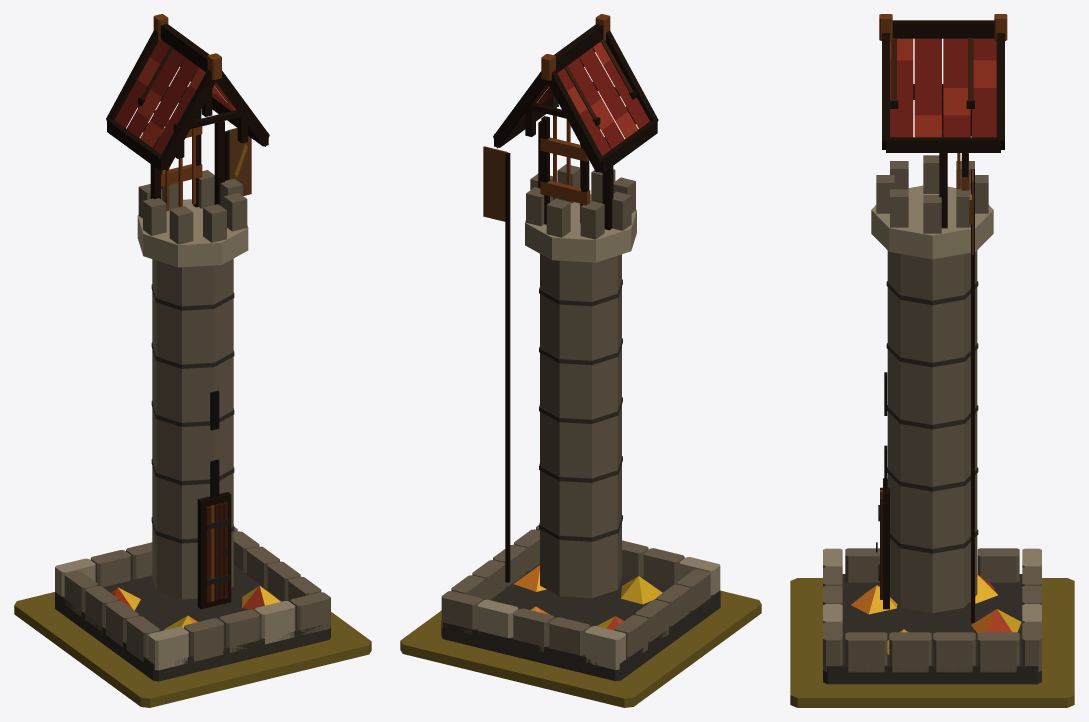
The model's file is archer_tower_t4.glb.
The picture shows the model from 3 angles, left to right: view 1: azimuth 30°, elevation 25°; view 2: azimuth 150°, elevation 25°; view 3: azimuth 270°, elevation 25°; orthographic projection. The views are drawn at different scales.
Visible parts, largest first — view 1: MMR | archer_tower | T04 Architecture.001, MMR | archer_tower | Tier 04 Ground.001, MMR | archer_tower | T04 Roof Supports.001, MMR | archer_tower | T04 Autumn Dressing.001, MMR | archer_tower | T04 Banner Flag 1.001; view 2: MMR | archer_tower | T04 Architecture.001, MMR | archer_tower | Tier 04 Ground.001, MMR | archer_tower | T04 Banner Flag 1.001, MMR | archer_tower | T04 Autumn Dressing.001, MMR | archer_tower | T04 Roof Supports.001; view 3: MMR | archer_tower | T04 Architecture.001, MMR | archer_tower | Tier 04 Ground.001, MMR | archer_tower | T04 Autumn Dressing.001, MMR | archer_tower | T04 Roof Supports.001.
Boxes of the visible parts, left/top/right/bottom form: MMR | archer_tower | T04 Architecture.001: left=55, top=14, right=330, bottom=681; MMR | archer_tower | Tier 04 Ground.001: left=14, top=592, right=371, bottom=707; MMR | archer_tower | T04 Roof Supports.001: left=138, top=46, right=247, bottom=158; MMR | archer_tower | T04 Autumn Dressing.001: left=110, top=585, right=280, bottom=629; MMR | archer_tower | T04 Banner Flag 1.001: left=227, top=128, right=251, bottom=195; MMR | archer_tower | T04 Architecture.001: left=441, top=14, right=720, bottom=681; MMR | archer_tower | Tier 04 Ground.001: left=400, top=590, right=761, bottom=707; MMR | archer_tower | T04 Banner Flag 1.001: left=483, top=146, right=507, bottom=221; MMR | archer_tower | T04 Autumn Dressing.001: left=514, top=565, right=662, bottom=630; MMR | archer_tower | T04 Roof Supports.001: left=525, top=39, right=636, bottom=136; MMR | archer_tower | T04 Architecture.001: left=823, top=14, right=1041, bottom=684; MMR | archer_tower | Tier 04 Ground.001: left=790, top=578, right=1074, bottom=707; MMR | archer_tower | T04 Autumn Dressing.001: left=851, top=574, right=1021, bottom=654; MMR | archer_tower | T04 Roof Supports.001: left=890, top=38, right=974, bottom=136.
Size of the model in its own units: 1.3 by 3.18 by 1.3.
Materials: 1 (1 with a texture image).
